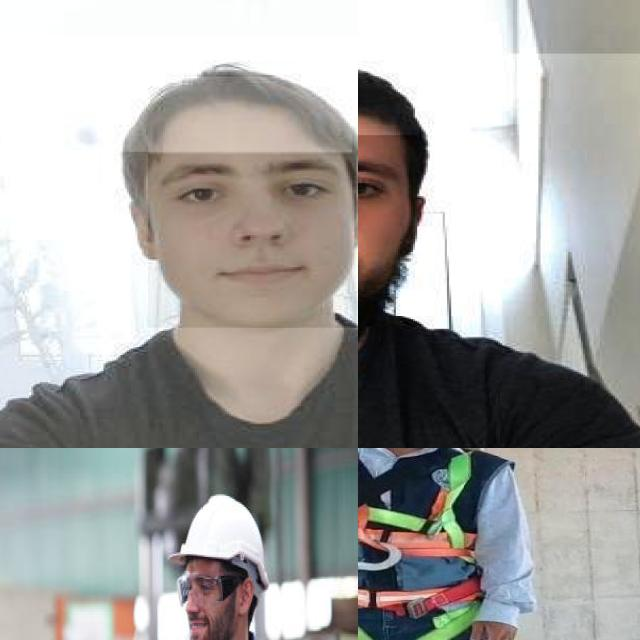No_Ear-Protection: (120, 195, 180, 268), (236, 579, 255, 616)
No_Glasses: (138, 142, 345, 226)
face_nomask: (148, 153, 357, 328), (358, 136, 408, 359), (186, 592, 234, 640)
glasses: (177, 573, 243, 604)
hand_noglove: (459, 608, 527, 640)
head_helmet: (168, 496, 268, 596)
head_nohelmet: (120, 76, 352, 152), (358, 58, 419, 135)
person: (0, 36, 358, 448), (358, 53, 640, 448), (358, 448, 537, 640)
